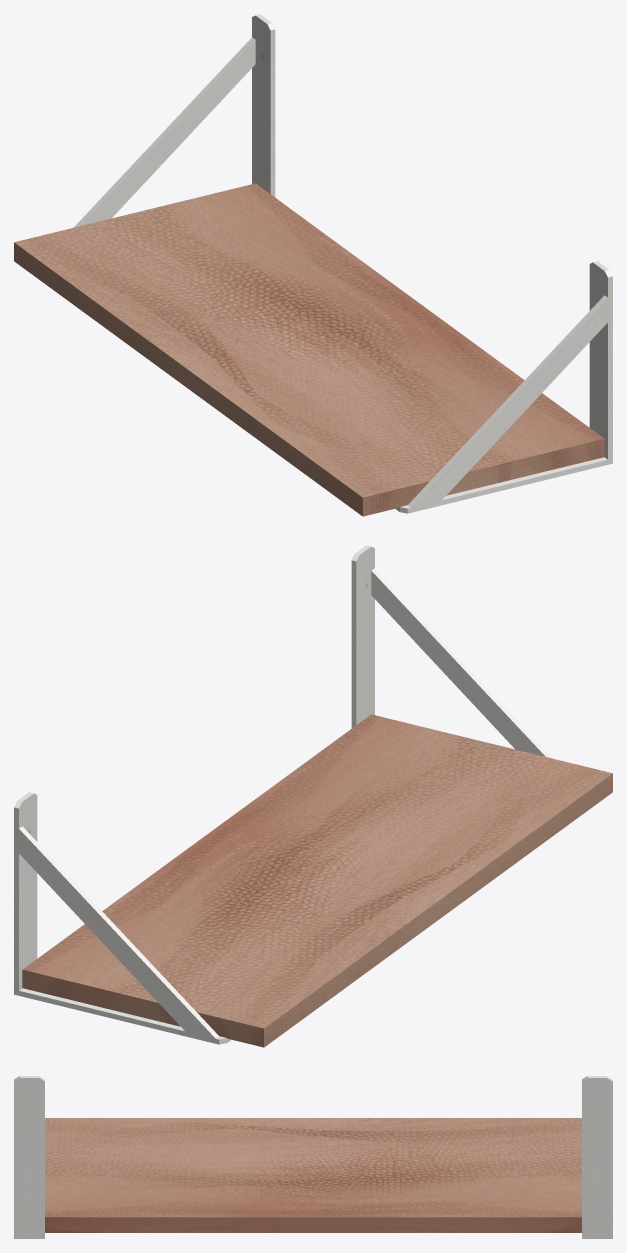
The model's file is Shelf.fbx.
3 views of the same model, one above another, from view 1: azimuth 30°, elevation 25°; view 2: azimuth 150°, elevation 25°; view 3: azimuth 270°, elevation 25° (orthographic). The views are drawn at different scales.
Visible parts, largest first — view 1: wood, support; view 2: wood, support; view 3: wood, support.
Boxes of the visible parts, box(x1,y1,x2,y2) form: wood: box(14, 183, 604, 516); support: box(74, 14, 612, 513); wood: box(22, 714, 612, 1047); support: box(14, 545, 552, 1044); wood: box(45, 1118, 581, 1232); support: box(14, 1076, 612, 1238).
Bounding box in the file's own units: 204 × 151 × 510.
2 materials, 2 textured.
